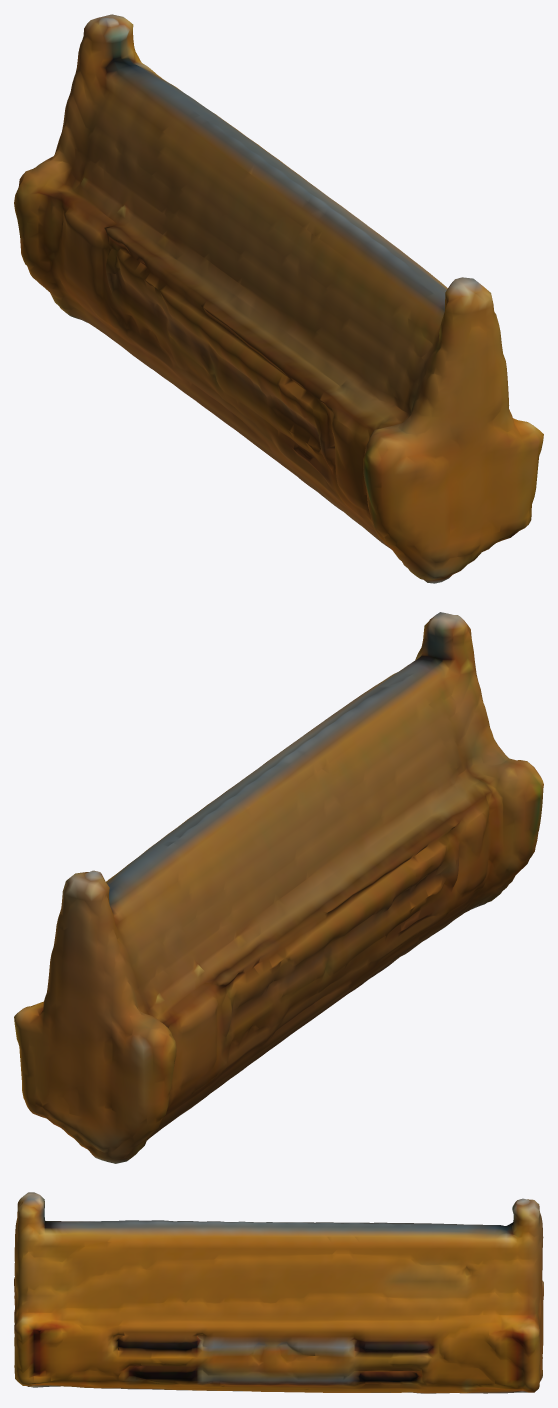
The model's file is hood.glb.
3 views of the same model, one above another, from view 1: azimuth 30°, elevation 25°; view 2: azimuth 150°, elevation 25°; view 3: azimuth 270°, elevation 25° (orthographic). The views are drawn at different scales.
Visible parts, largest first — view 1: geometry_0; view 2: geometry_0; view 3: geometry_0.
Part boxes in pixels (left/top/right/bottom): geometry_0: left=14, top=14, right=543, bottom=583; geometry_0: left=14, top=612, right=543, bottom=1163; geometry_0: left=14, top=1192, right=543, bottom=1393.
Bounding box in the file's own units: 0.2721 × 0.4264 × 1.03.
